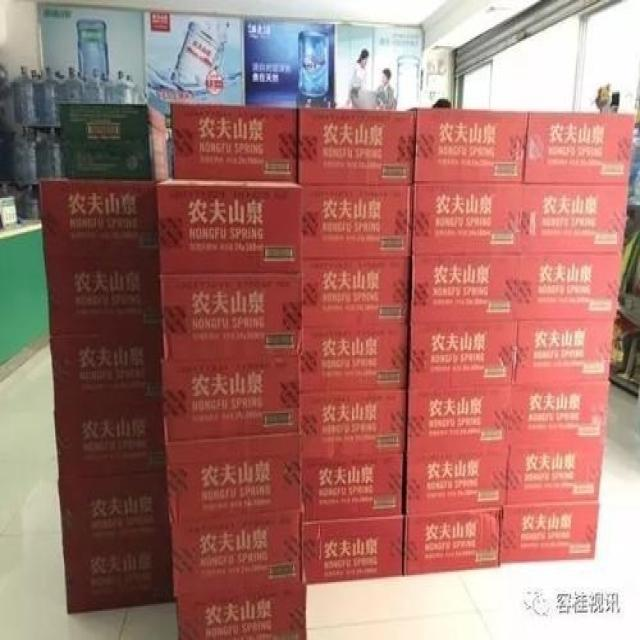box: (157, 177, 301, 275), (165, 431, 301, 526), (160, 270, 303, 357), (162, 357, 300, 442), (169, 511, 301, 599), (172, 103, 299, 181), (43, 257, 161, 336), (39, 179, 157, 257), (57, 470, 169, 552), (57, 105, 170, 183), (413, 110, 530, 183), (299, 112, 417, 184), (54, 404, 167, 478), (412, 181, 523, 256), (524, 112, 635, 187), (65, 541, 173, 616), (47, 336, 163, 405), (523, 183, 630, 257), (301, 186, 412, 257), (411, 253, 522, 324), (408, 318, 517, 390), (299, 388, 406, 460), (303, 257, 411, 327), (405, 447, 509, 516), (300, 326, 406, 392), (407, 388, 512, 454), (173, 586, 306, 638), (304, 517, 404, 585), (301, 455, 401, 522), (404, 507, 501, 576), (518, 254, 620, 318), (513, 320, 614, 383), (511, 382, 609, 445), (500, 500, 599, 562), (507, 443, 604, 504)
